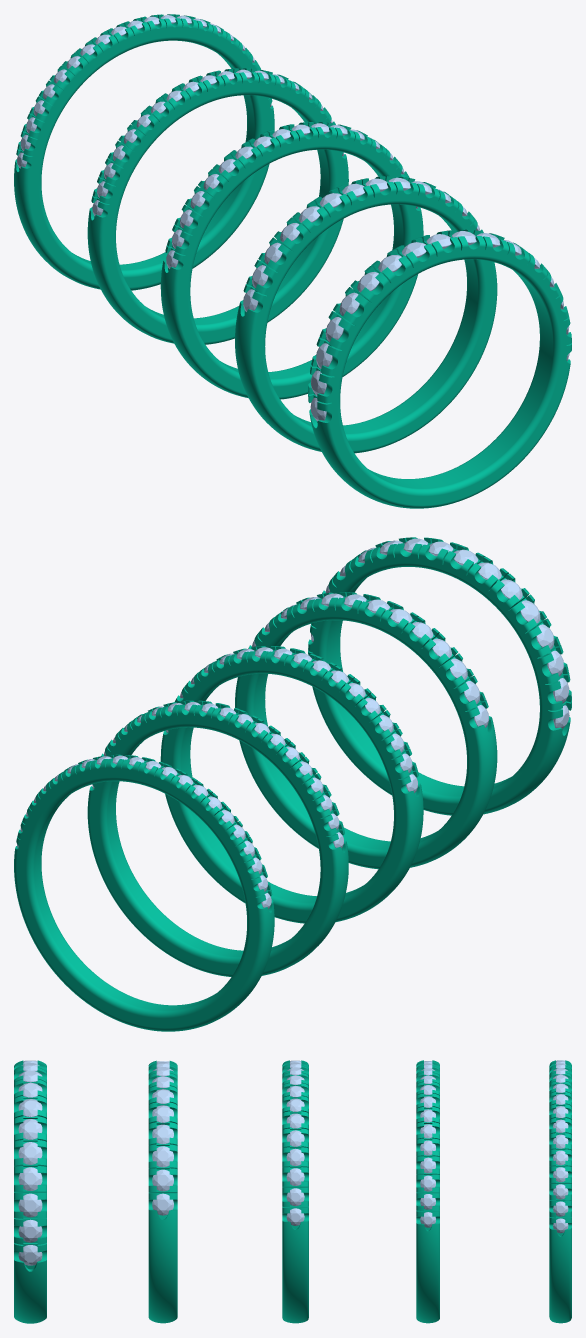
3 renders of one model, top to bottom at view 1: azimuth 30°, elevation 25°; view 2: azimuth 150°, elevation 25°; view 3: azimuth 270°, elevation 25°, orthographic. The views are drawn at different scales.
Visible parts, largest first — view 1: VR BAND(front).3dm; view 2: VR BAND(front).3dm; view 3: VR BAND(front).3dm, Diamond_Round (×9).
Part boxes in pixels (<box>): VR BAND(front).3dm: <box>14,14,571,508</box>; VR BAND(front).3dm: <box>14,537,571,1031</box>; VR BAND(front).3dm: <box>14,1060,571,1323</box>; Diamond_Round (×9): <box>18,1119,173,1265</box>.
Bounding box in the file's own units: 1.57 × 1.57 × 3.33.
